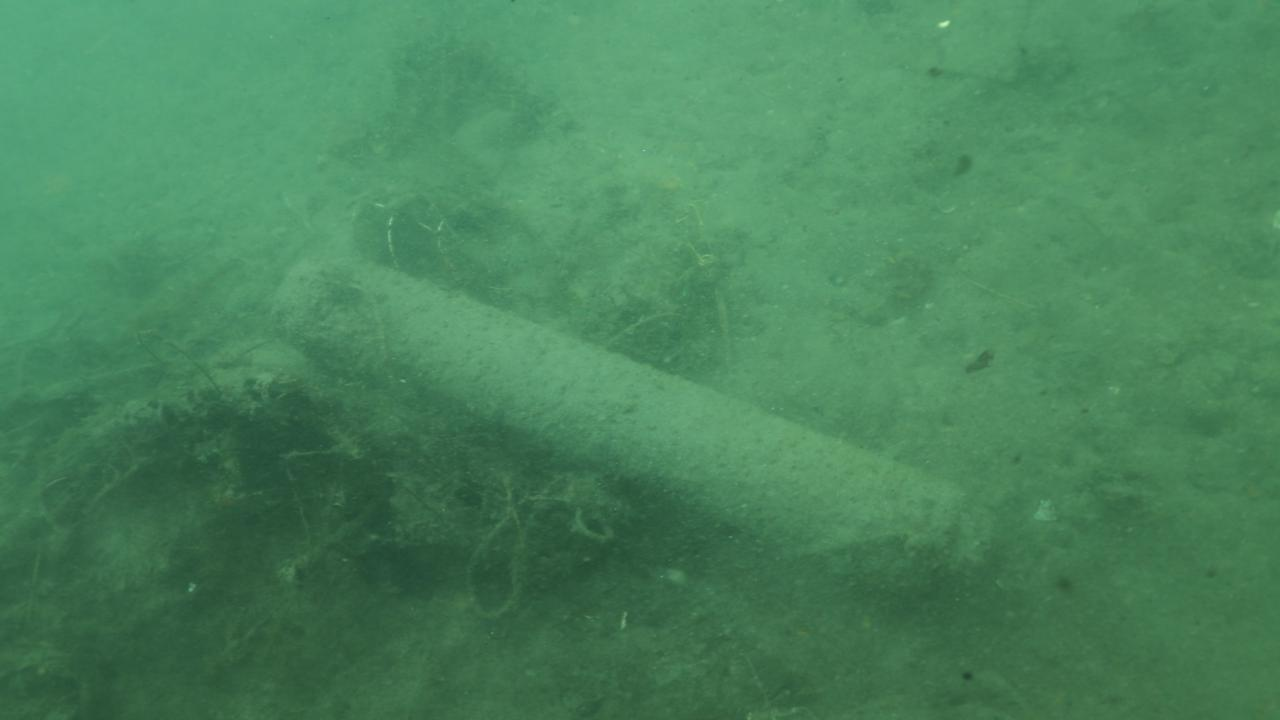eel fish trap: (266, 242, 996, 603)
